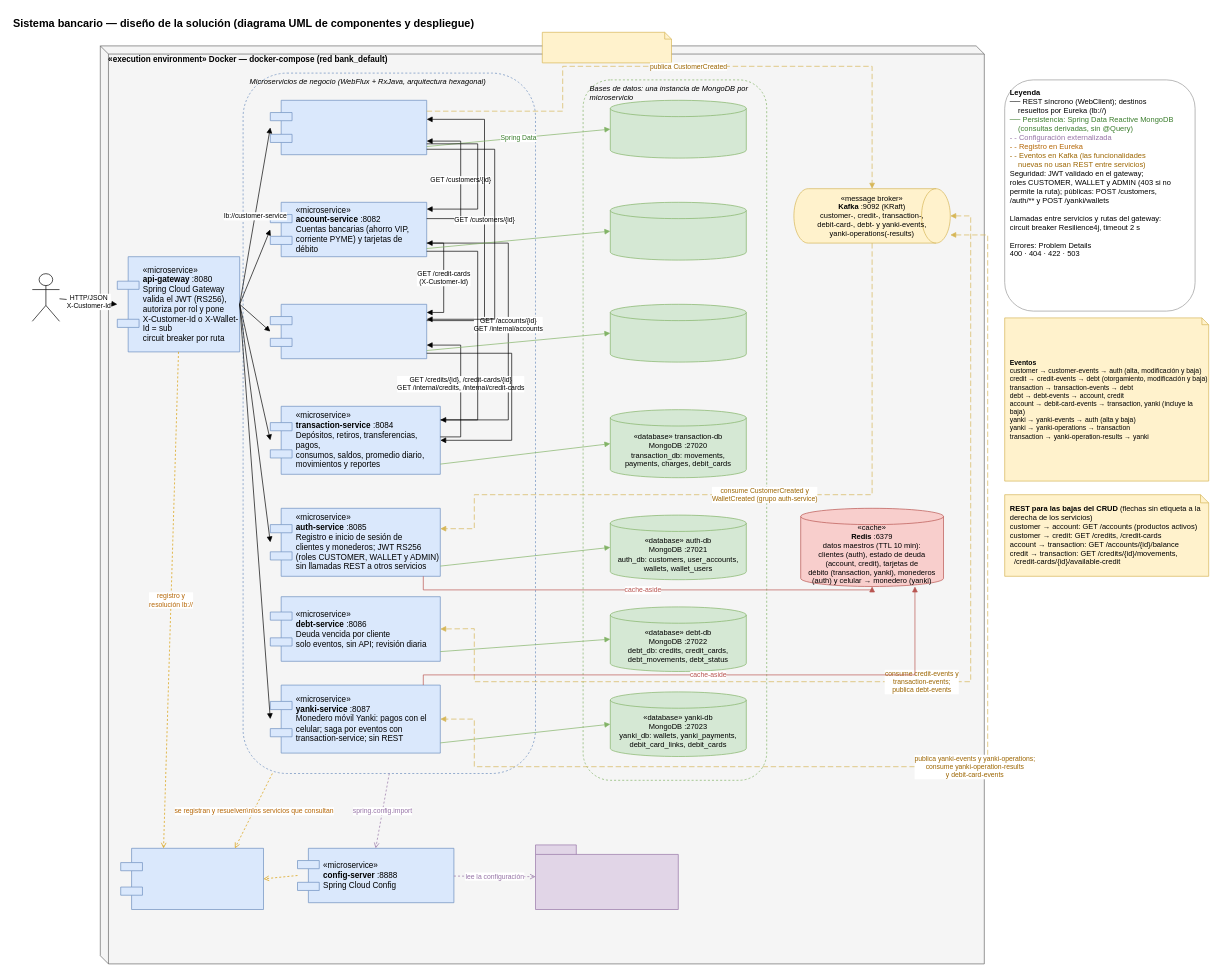
The diagram is 1221 pixels wide and 976 high, and some of its shapes have lost their labels. Each missing label, with the centre of its shape:
Circuit breaker (Resilience4j) timeout 2 s · 503 si falla: the point at 607,47
Postman / Newman (sin interfaz gráfica): the point at 46,297
«database» account-db MongoDB :27018 account_db: accounts, debit_cards: the point at 678,231
«database» credit-db MongoDB :27019 credit_db: credits, credit_cards: the point at 678,333
«database» customer-db MongoDB :27017 customer_db: customers: the point at 678,129
«git repository» config-repo application.yaml, *-service.yaml, api-gateway.yaml: the point at 606,877
«microservice» credit-service :8083 Créditos y tarjetas de crédito: the point at 348,331
«microservice» customer-service :8081 Clientes: the point at 348,127
«microservice» discovery-server :8761 Eureka (registro de APIs) panel de control: the point at 192,879
